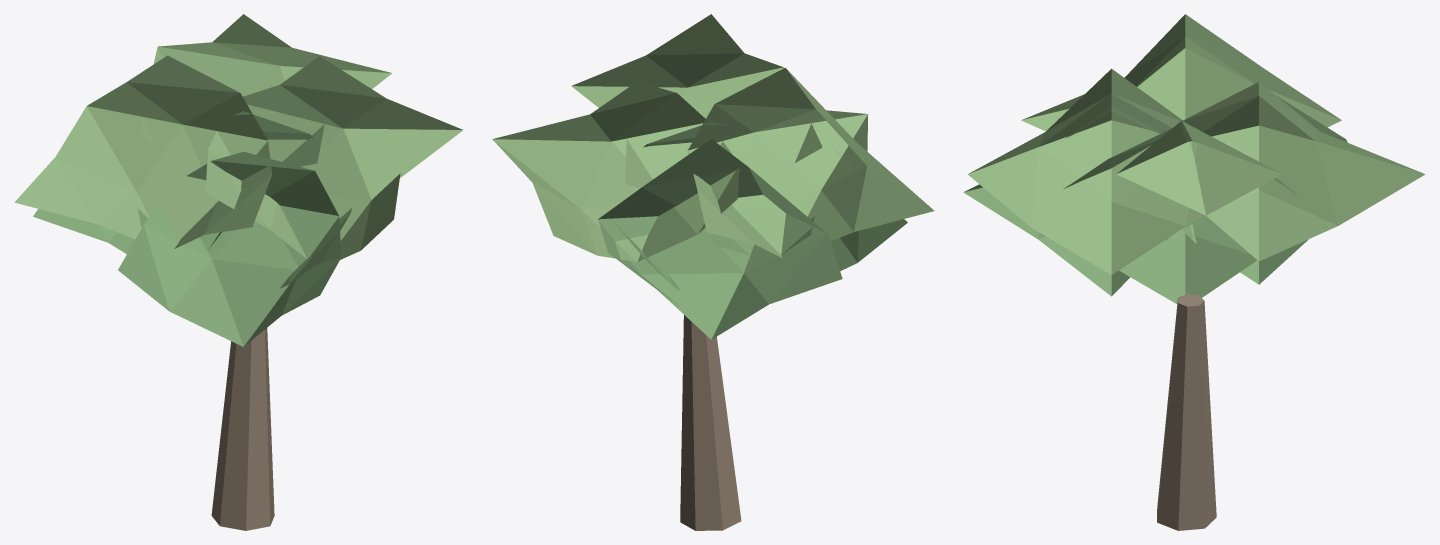
Rendered from broadleaf_v17.glb.
3 views of the same model, side by side, from view 1: azimuth 30°, elevation 25°; view 2: azimuth 150°, elevation 25°; view 3: azimuth 270°, elevation 25° (orthographic). The views are drawn at different scales.
Parts seen in each view (by area): view 1: lod0; view 2: lod0; view 3: lod0.
Part boxes in pixels (x1,y1,x2,y2): lod0: [14, 14, 463, 530]; lod0: [492, 14, 934, 530]; lod0: [963, 14, 1425, 530].
Size of what is drawn, in the model's own units: 5.34 by 5.92 by 5.3.
